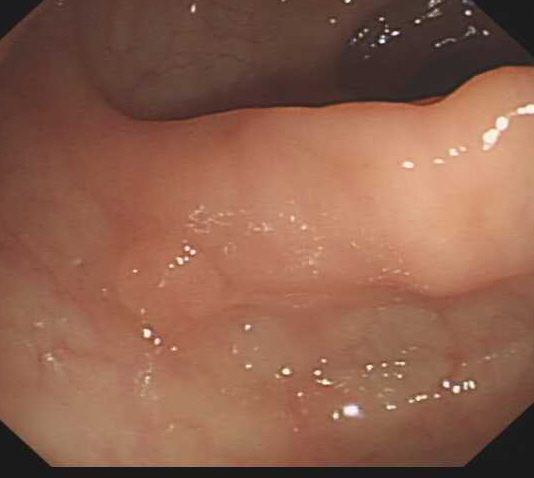adenoma: (111, 238, 226, 333)
